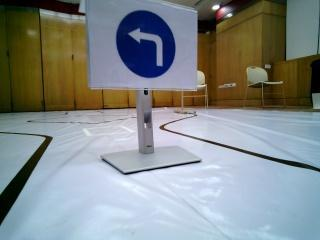left: (97, 5, 196, 87)
